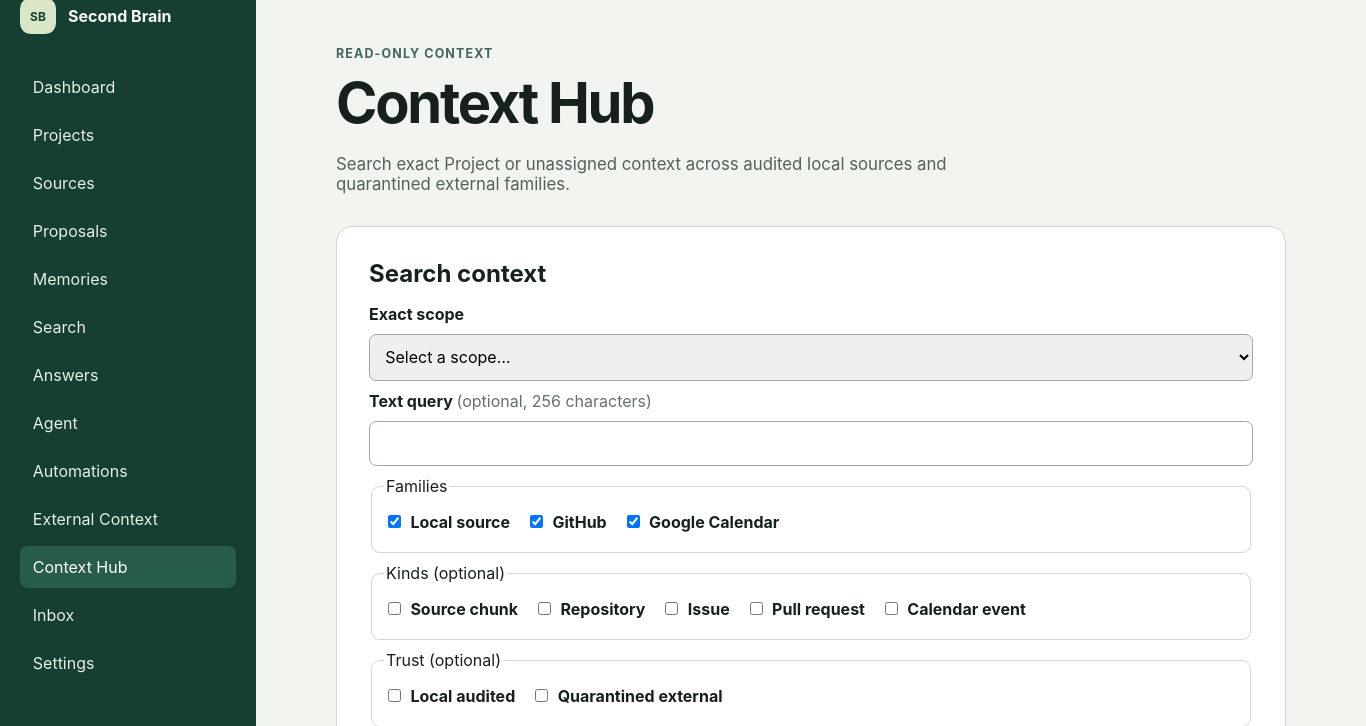
Context Hub › renders fixed family order and visible kind, trust, state, scope, provenance, and exact facets
This screenshot has width=1366, height=726.
Select "Alpha" in the dropdown labelled "Exact scope" at {"x": 811, "y": 357}, box [369, 334, 1253, 381]
(page scrolled)
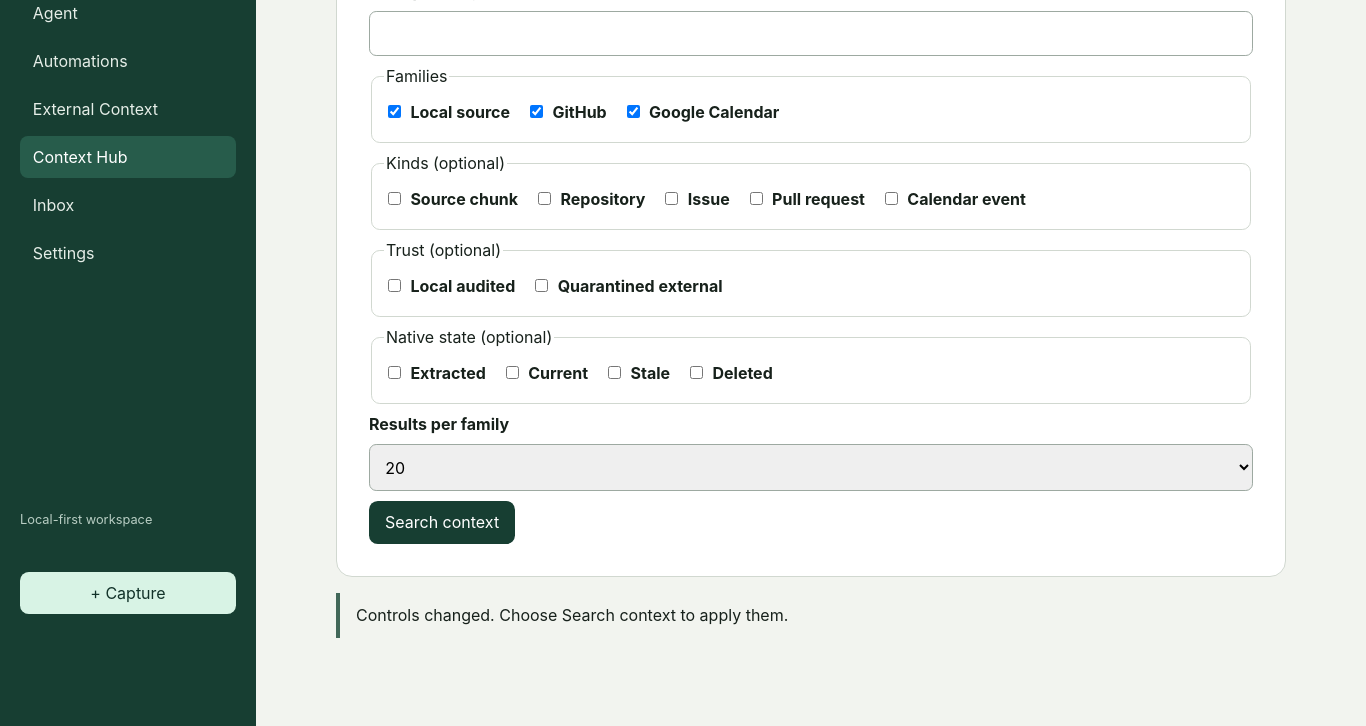
Click the button "Search context" at {"x": 442, "y": 522}, box [369, 501, 515, 544]
(page scrolled)
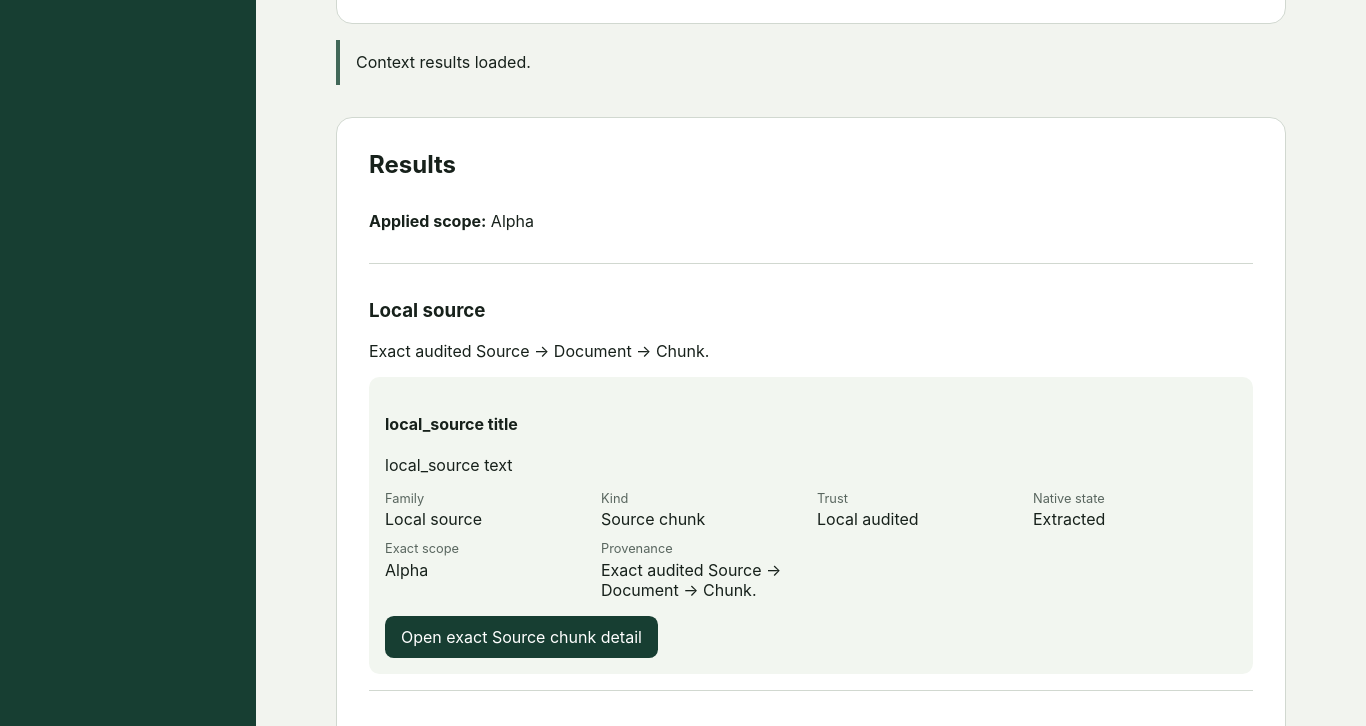
Now the 1st text "Exact audited Source → Document → Chunk." is shown, box [369, 341, 709, 361]
